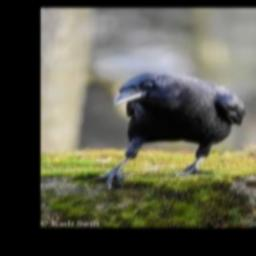Crow: (92, 73, 247, 189)
